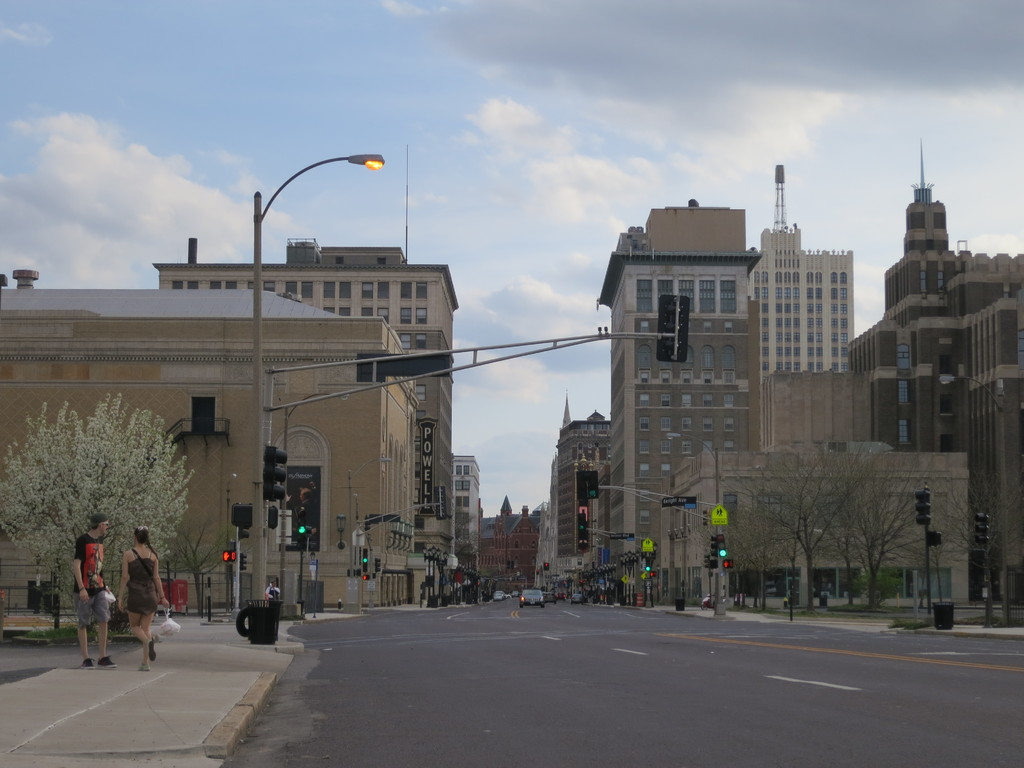green_light: (295, 506, 308, 537), (719, 535, 729, 560)
